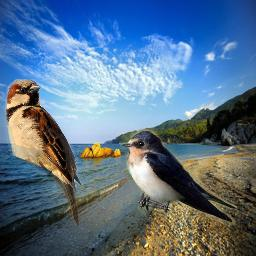Swallow: (120, 128, 237, 226), (4, 79, 81, 226)
